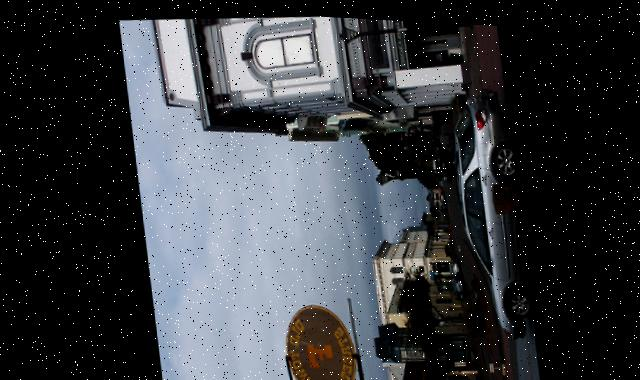car: (442, 64, 534, 362)
